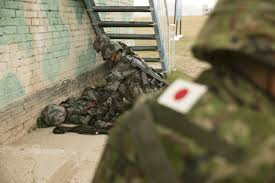Japanese Flag: (157, 78, 210, 111)
